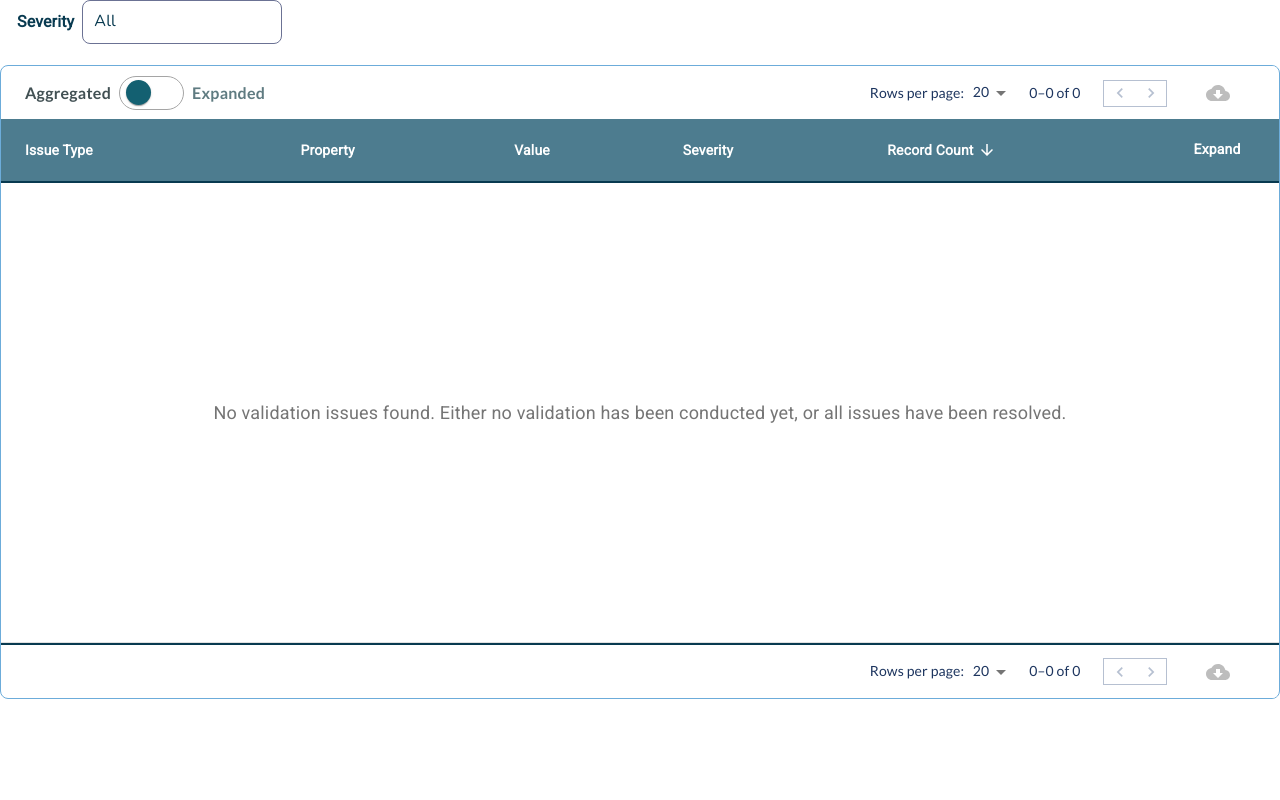
it: General › should show an error message when the QC results cannot be fetched (network)
The width and height of the screenshot is (1280, 800).
Click the checkbox.
click(138, 92)  # box top-left (126, 80), bottom-right (151, 104)
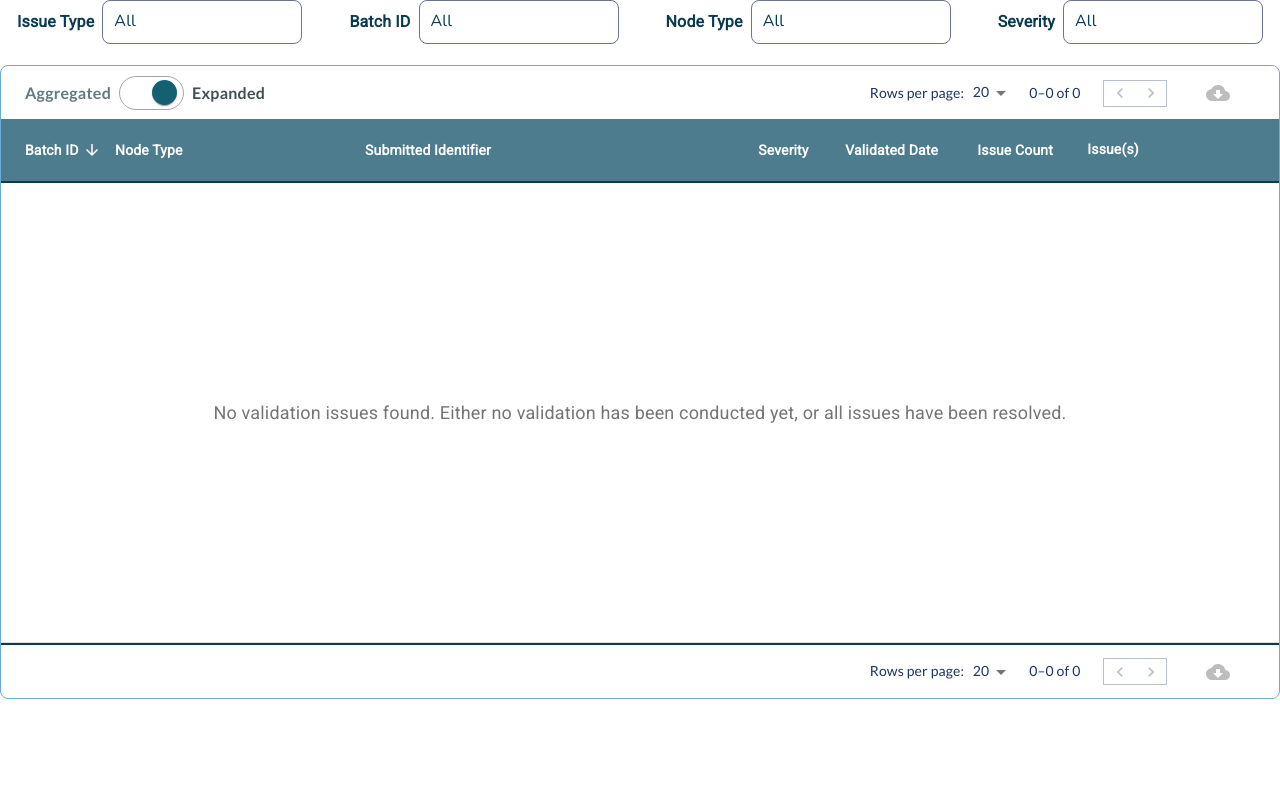
Expected: the checkbox is checked, top-left (152, 80), bottom-right (177, 104)
